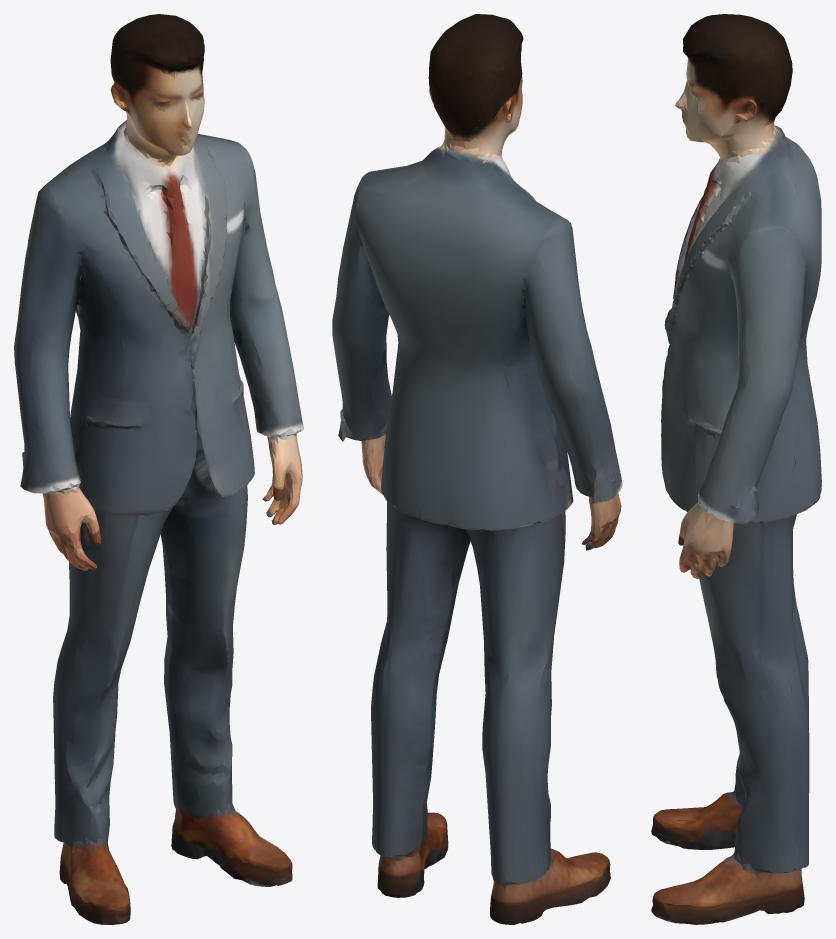
The model's file is spring.glb.
3 renders of one model, left to right at view 1: azimuth 30°, elevation 25°; view 2: azimuth 150°, elevation 25°; view 3: azimuth 270°, elevation 25°, orthographic.
Parts seen in each view (by area): view 1: Asian_Spring_Custom_V2; view 2: Asian_Spring_Custom_V2; view 3: Asian_Spring_Custom_V2.
Boxes of the visible parts, x1,y1,x2,y2 form: Asian_Spring_Custom_V2: (14,14,303,924); Asian_Spring_Custom_V2: (332,14,622,924); Asian_Spring_Custom_V2: (651,14,821,924).
Size of the model in its own units: 0.5744 by 1.73 by 0.3126.
Materials: 1 (1 with a texture image).
